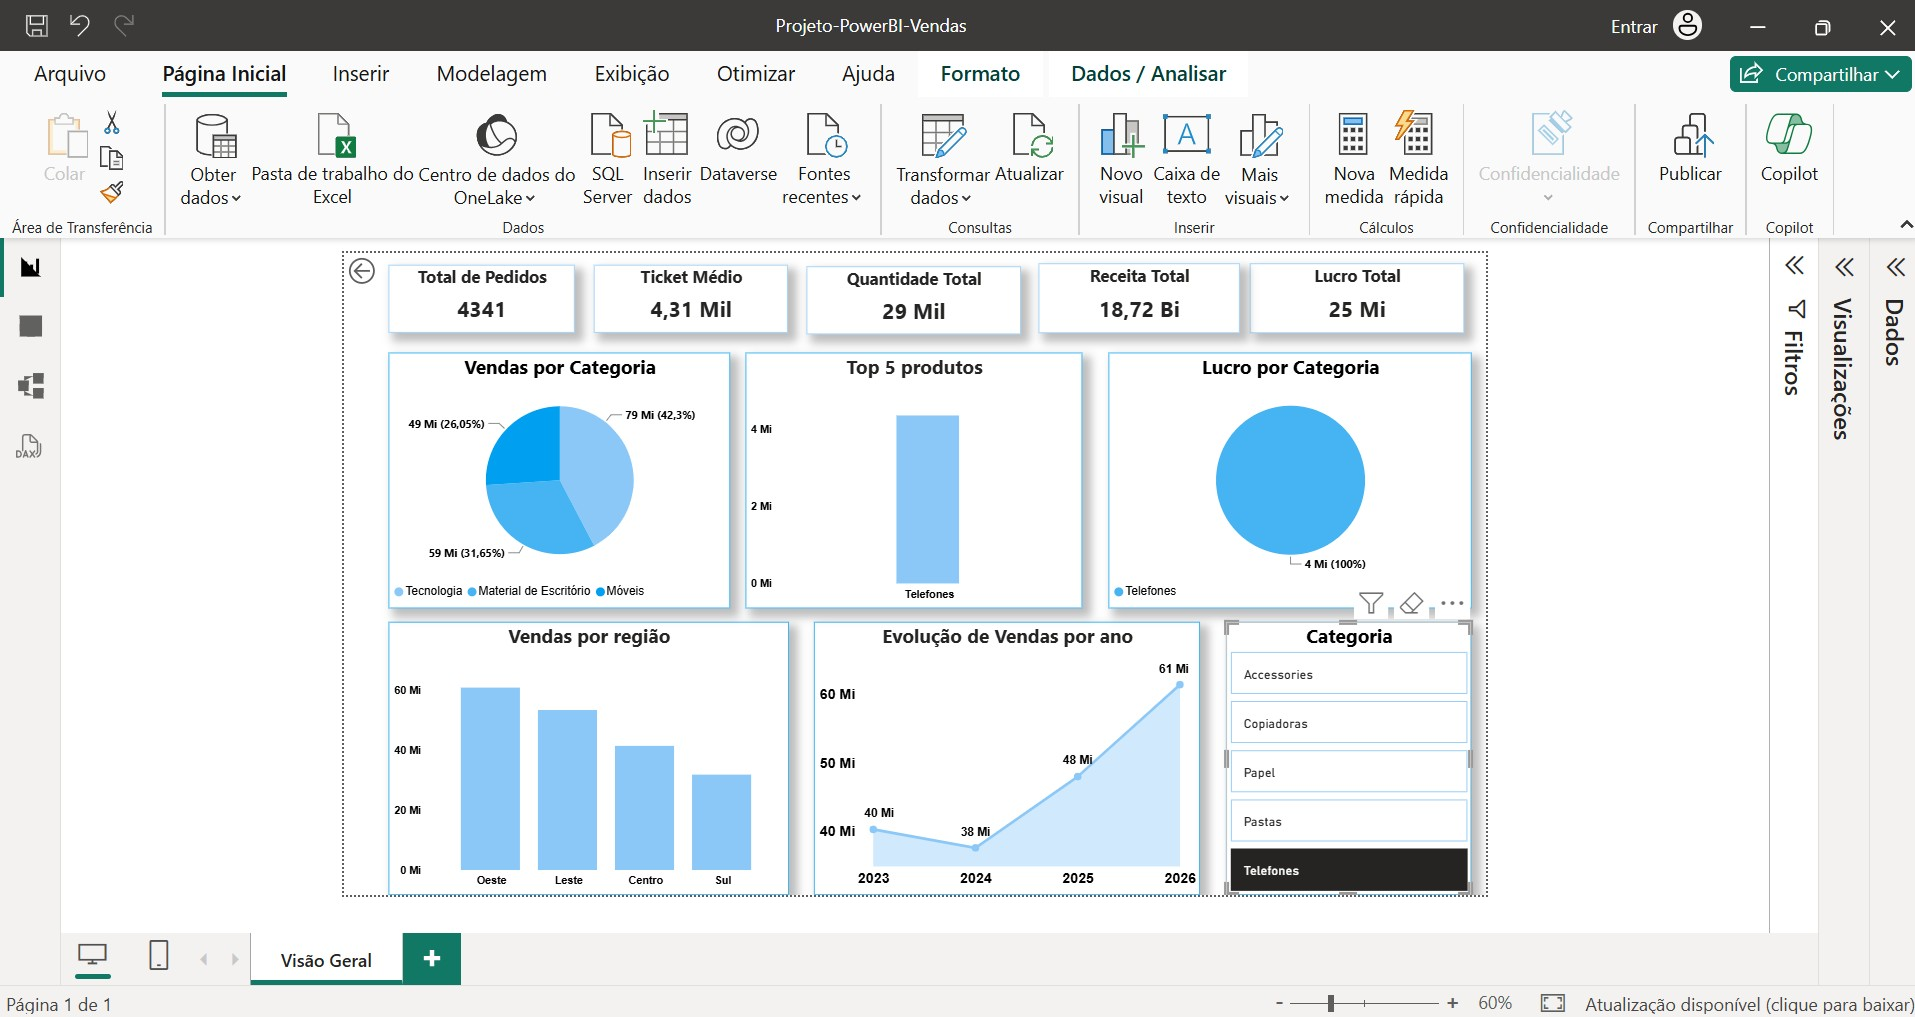

This screenshot's page, from the dashboard's own definition file:
{"tool":"powerbi","page":{"name":"Visão Geral","canvas":[1280,720],"ordinal":0},"visuals":[{"type":"card","title":"Lucro Total","fields":{"Values":["Sum(VISÃO GERAL.lucro_total)"]},"box":[1014.7,11.2,239.7,78.1],"z":0},{"type":"card","title":"Quantidade Total","fields":{"Values":["Sum(VISÃO GERAL.quantidade_total)"]},"box":[518.5,14.9,239.7,76.2],"z":1000},{"type":"card","title":"Ticket Médio","fields":{"Values":["Sum(SQLite 13.Ticket_Medio_Correto)"]},"box":[280.6,13,217.4,76.2],"z":2000},{"type":"card","title":"Receita Total","fields":{"Values":["Sum(SQLite 13.Receita_Total)"]},"box":[778.7,11.2,224.9,78.1],"z":3000},{"type":"card","title":"Total de Pedidos","fields":{"Values":["Sum(SQLite 13.Total_Pedidos)"]},"box":[50.2,13,208.1,76.2],"z":4000},{"type":"clusteredColumnChart","title":"Vendas por região","fields":{"Category":["VENDAS POR REGIÃO.region"],"Y":["Sum(VENDAS POR REGIÃO.receita)"]},"box":[50.2,413.8,448.2,305.6],"z":5000},{"type":"lineChart","title":"Evolução de Vendas por ano","fields":{"Category":["EVOLUÇÃO ANOS.ano"],"Y":["Sum(EVOLUÇÃO ANOS.receita)"]},"box":[526.6,413.8,432.6,305.6],"z":6000},{"type":"pieChart","title":"Vendas por Categoria","fields":{"Category":["VENDAS POR CATEGORIA.category"],"Y":["Sum(VENDAS POR CATEGORIA.receita)"]},"box":[50.2,111.5,382.8,286.2],"z":7000},{"type":"pieChart","title":"Lucro por Categoria","fields":{"Category":["SUBCATEGORIAS TOP 5 LUCRATIVAS.sub_category"],"Y":["Sum(SUBCATEGORIAS TOP 5 LUCRATIVAS.lucro)"]},"box":[856.8,111.5,407,286.2],"z":8000},{"type":"actionButton","box":[0,0,100,40],"z":9000},{"type":"columnChart","title":"Top 5 produtos","fields":{"Category":["SUBCATEGORIAS TOP 5 LUCRATIVAS.sub_category"],"Y":["Sum(SUBCATEGORIAS TOP 5 LUCRATIVAS.lucro)"]},"box":[449.8,111.5,377.3,286.2],"z":10000},{"type":"advancedSlicerVisual","title":"Categoria","fields":{"Values":["VENDAS POR CATEGORIA.category"]},"box":[989,414,275,306],"z":10001}]}

Visuals, with their boxes on the page's 1280x720 design canvas (x1, y1, x2, y2). These are canvas units, not pixel positions in the 1915x1017 screenshot, which may show the page scaled, cropped or inside an application window:
"Lucro Total" card: [1015,11,1254,89]
"Quantidade Total" card: [518,15,758,91]
"Ticket Médio" card: [281,13,498,89]
"Receita Total" card: [779,11,1004,89]
"Total de Pedidos" card: [50,13,258,89]
"Vendas por região" clusteredColumnChart: [50,414,498,719]
"Evolução de Vendas por ano" lineChart: [527,414,959,719]
"Vendas por Categoria" pieChart: [50,112,433,398]
"Lucro por Categoria" pieChart: [857,112,1264,398]
actionButton: [0,0,100,40]
"Top 5 produtos" columnChart: [450,112,827,398]
"Categoria" advancedSlicerVisual: [989,414,1264,720]
